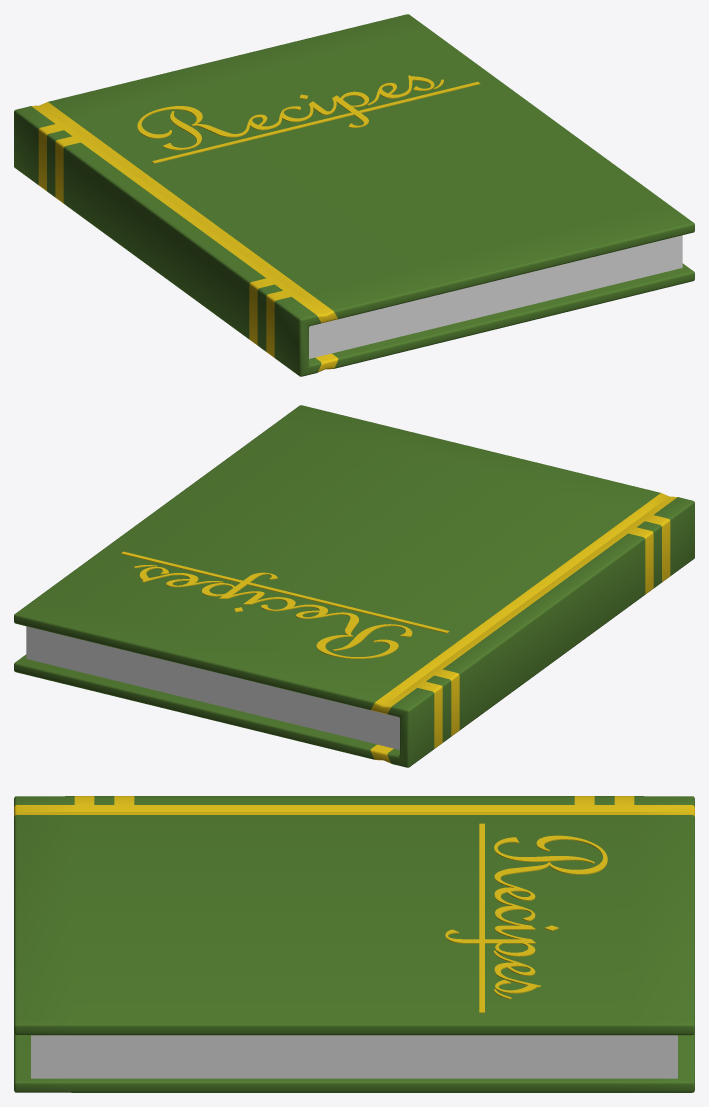
Rendered from ksiazka.fbx.
3 views of the same model, one above another, from view 1: azimuth 30°, elevation 25°; view 2: azimuth 150°, elevation 25°; view 3: azimuth 270°, elevation 25° (orthographic). The views are drawn at different scales.
Visible parts, largest first — view 1: Cube.001, Cube, Text, Cube.002; view 2: Cube.001, Cube, Text, Cube.002; view 3: Cube.001, Cube, Text, Cube.002.
Boxes of the visible parts, left/top/right/bottom form: Cube.001: left=14, top=14, right=694, bottom=376; Cube: left=309, top=235, right=682, bottom=358; Text: left=137, top=75, right=443, bottom=150; Cube.002: left=152, top=81, right=480, bottom=163; Cube.001: left=14, top=405, right=694, bottom=767; Cube: left=26, top=626, right=399, bottom=749; Text: left=134, top=565, right=412, bottom=658; Cube.002: left=121, top=551, right=449, bottom=633; Cube.001: left=14, top=796, right=694, bottom=1092; Cube: left=31, top=1035, right=677, bottom=1078; Text: left=445, top=835, right=607, bottom=999; Cube.002: left=479, top=823, right=484, bottom=1012.
Size of the model in its own units: 398 by 56.89 by 500.
